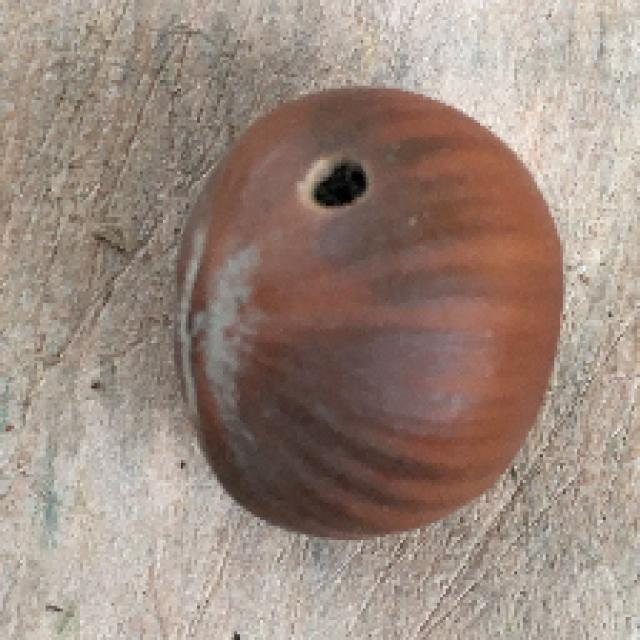damagedHazelnut: (173, 73, 560, 538)
